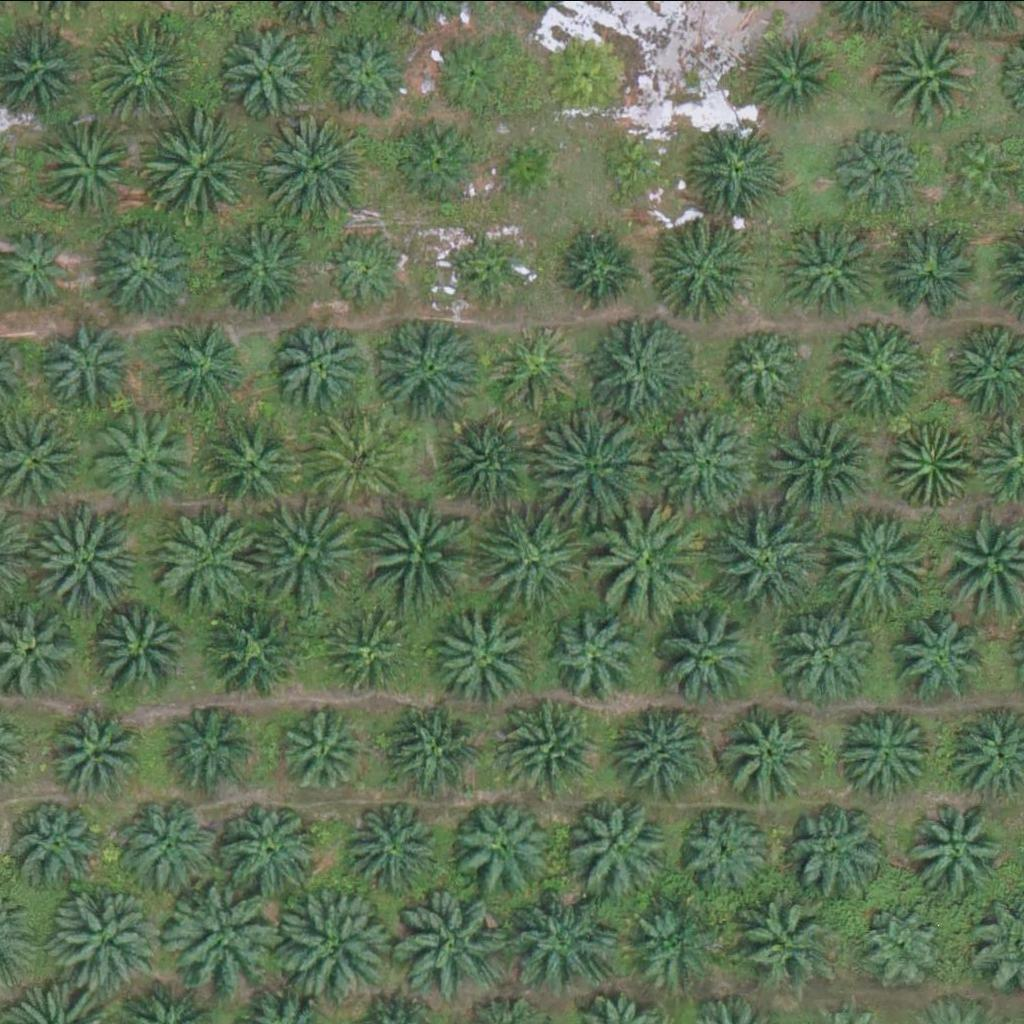Kelapa_Sawit: (479, 506, 593, 619), (251, 497, 365, 610), (826, 501, 939, 614), (710, 502, 823, 615), (258, 113, 371, 226), (146, 112, 259, 225), (159, 503, 272, 616), (30, 497, 143, 610), (279, 889, 392, 1002), (163, 876, 276, 989), (49, 885, 162, 998), (647, 402, 761, 514), (354, 496, 468, 608), (506, 889, 619, 1001), (593, 505, 706, 617), (541, 415, 654, 527), (762, 410, 875, 522), (582, 312, 695, 424), (88, 15, 201, 127), (372, 313, 485, 425), (395, 883, 508, 995), (618, 895, 719, 995), (729, 892, 830, 992), (452, 798, 553, 898), (906, 792, 1007, 892), (720, 700, 821, 800), (496, 699, 597, 799), (547, 602, 648, 702), (657, 604, 758, 704), (893, 609, 994, 709), (824, 318, 925, 418), (788, 216, 889, 316), (879, 218, 980, 318), (686, 125, 787, 225), (879, 26, 980, 126), (220, 22, 321, 122), (39, 118, 140, 218), (99, 220, 200, 320), (212, 218, 313, 318), (271, 316, 372, 416), (89, 410, 190, 510), (199, 413, 300, 513), (384, 697, 485, 797), (217, 798, 318, 898), (343, 800, 444, 900), (12, 795, 112, 895), (571, 793, 671, 893), (788, 802, 888, 902), (836, 699, 936, 799), (607, 692, 707, 792), (438, 608, 538, 708), (775, 605, 875, 705), (442, 412, 542, 512), (650, 219, 750, 319), (308, 407, 408, 507), (90, 596, 190, 696), (204, 596, 304, 696), (155, 693, 255, 793), (46, 701, 146, 801), (119, 792, 219, 892), (540, 30, 629, 118), (427, 30, 515, 118), (861, 900, 949, 988), (325, 225, 413, 313), (157, 322, 245, 410), (48, 323, 136, 411), (323, 609, 411, 697), (285, 707, 373, 795), (323, 29, 412, 116), (490, 323, 578, 410), (682, 806, 770, 893), (882, 420, 970, 507), (724, 319, 812, 406), (554, 224, 642, 311), (831, 126, 919, 213), (751, 32, 839, 119), (397, 120, 485, 207), (489, 132, 565, 207), (597, 128, 673, 203), (460, 226, 535, 301), (945, 131, 1020, 206)
